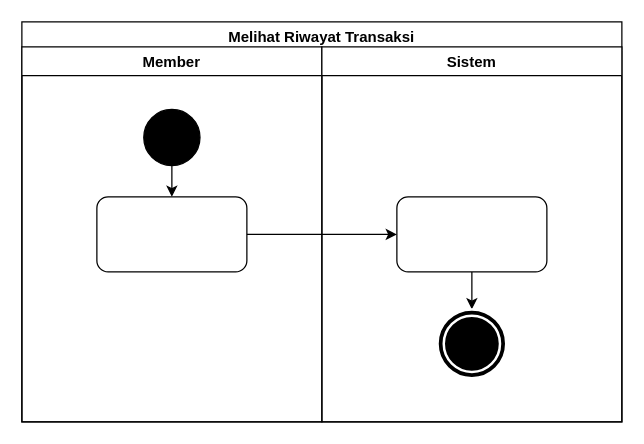
Some shapes in this 644 by 444 pixel diagram are drawn without their labels. Each missing label, with the centre of its shape:
Membuka halaman wallet: point 171,234
Menampilkan riwayat transaksi: point 471,234
